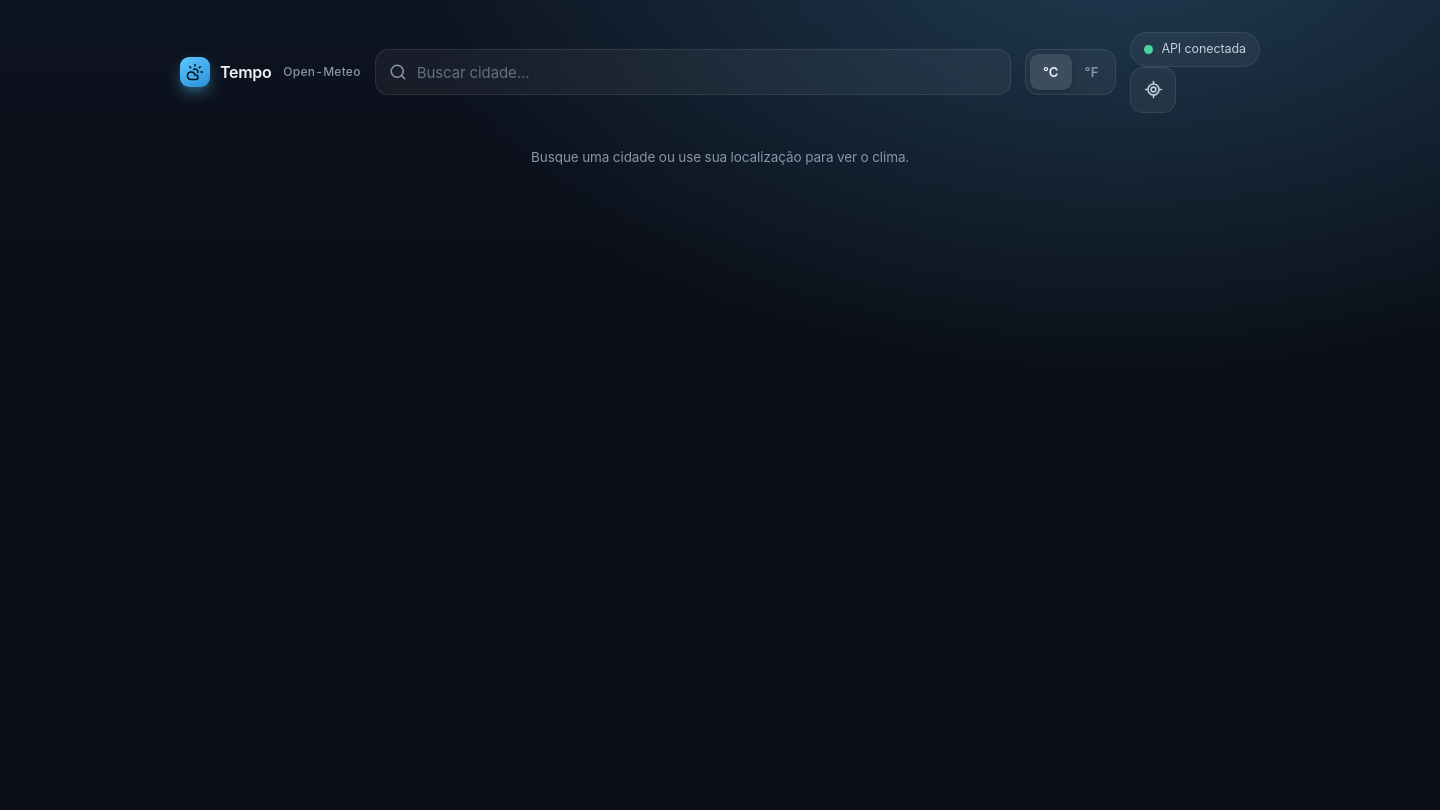
WeatherDashboardPage units toggle › keeps the active imperial unit when searching a new city
Type "London" into the dropdown.
click(707, 72); type("London")  # box left=417, top=50, right=997, bottom=94
Wait 240 ms
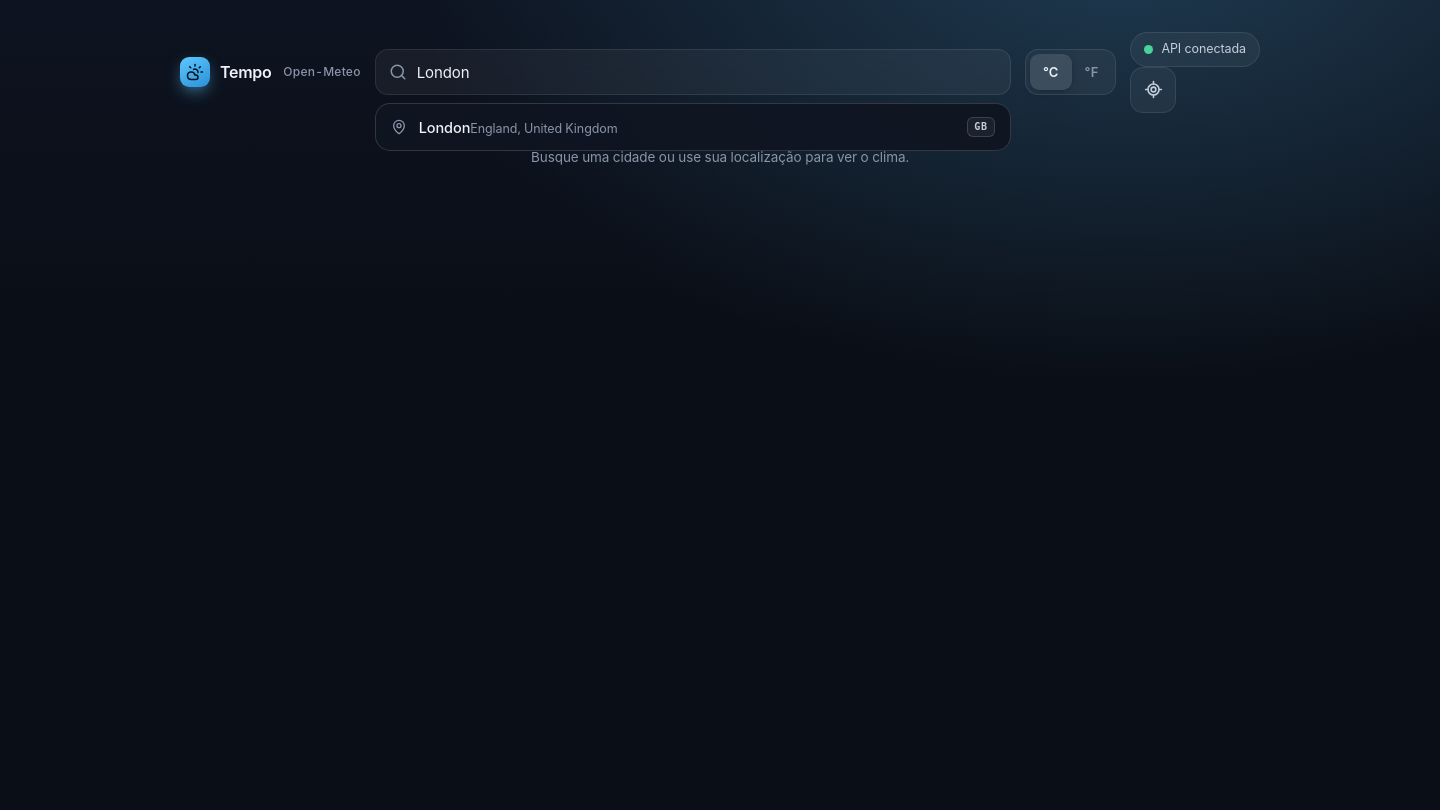
Press the mouse on the option at coordinates (444, 128), box left=376, top=104, right=1010, bottom=150
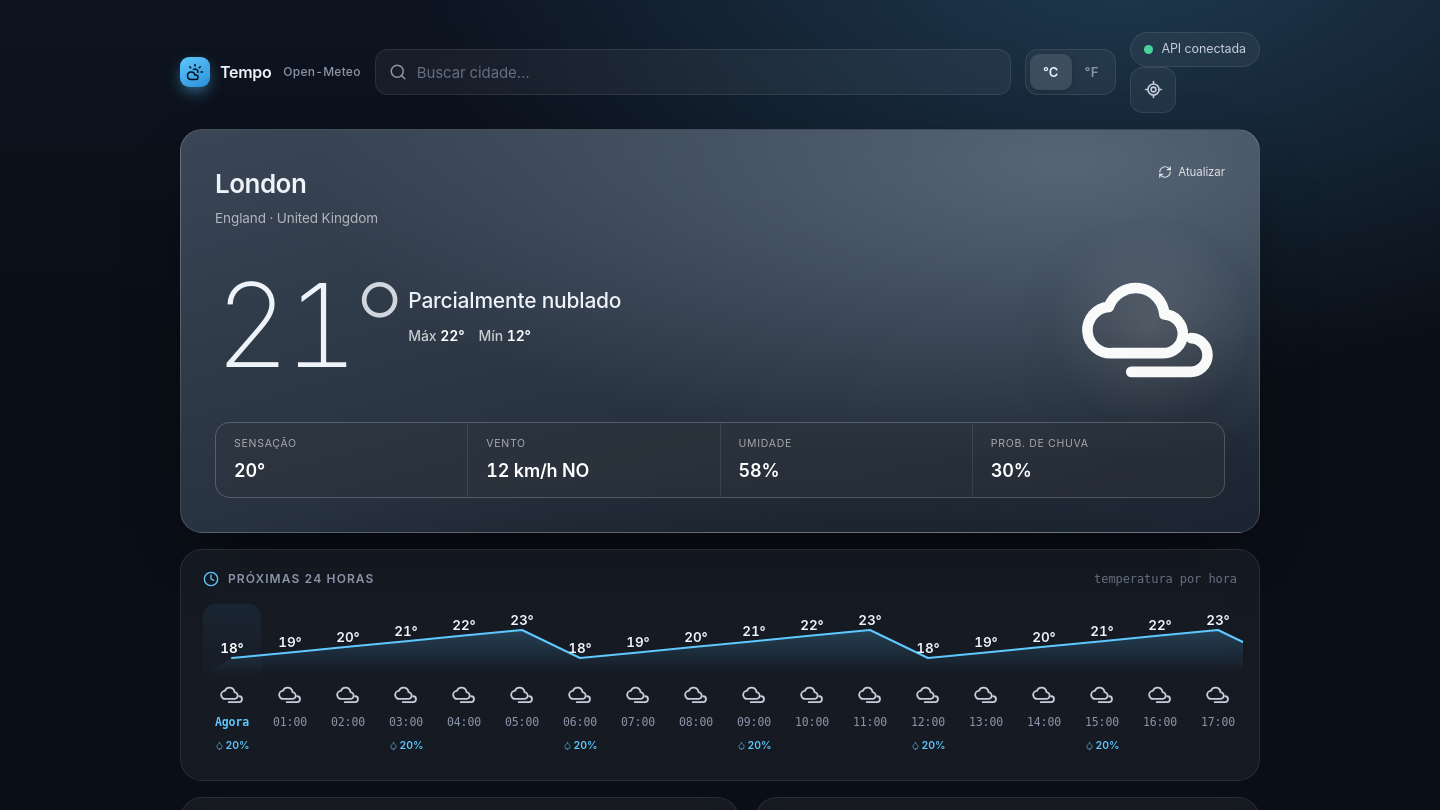
Click the button "°F".
click(1092, 72)  # box left=1072, top=54, right=1112, bottom=90
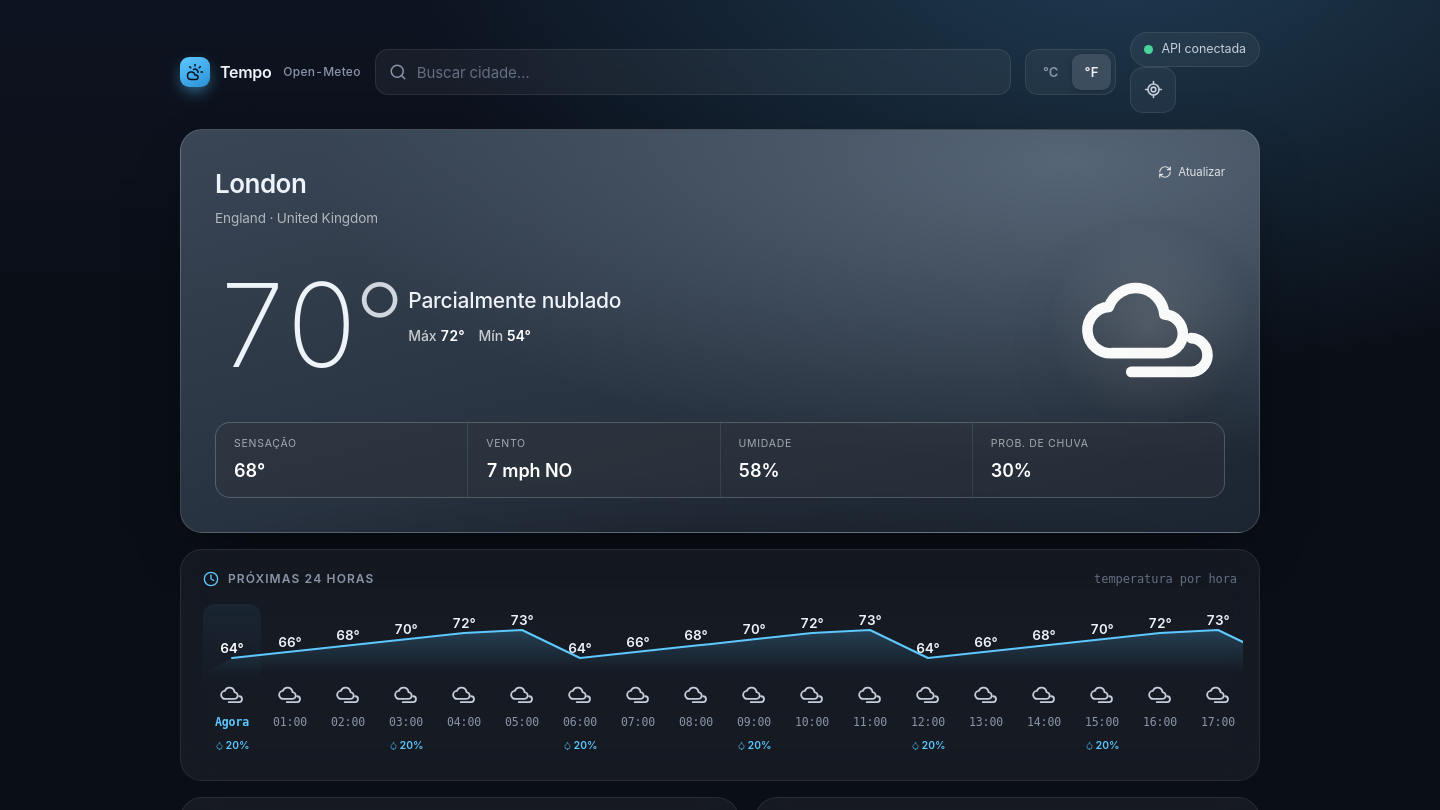
Type "Paris" into the dropdown.
click(707, 72); type("Paris")  # box left=417, top=50, right=997, bottom=94
Wait 240 ms
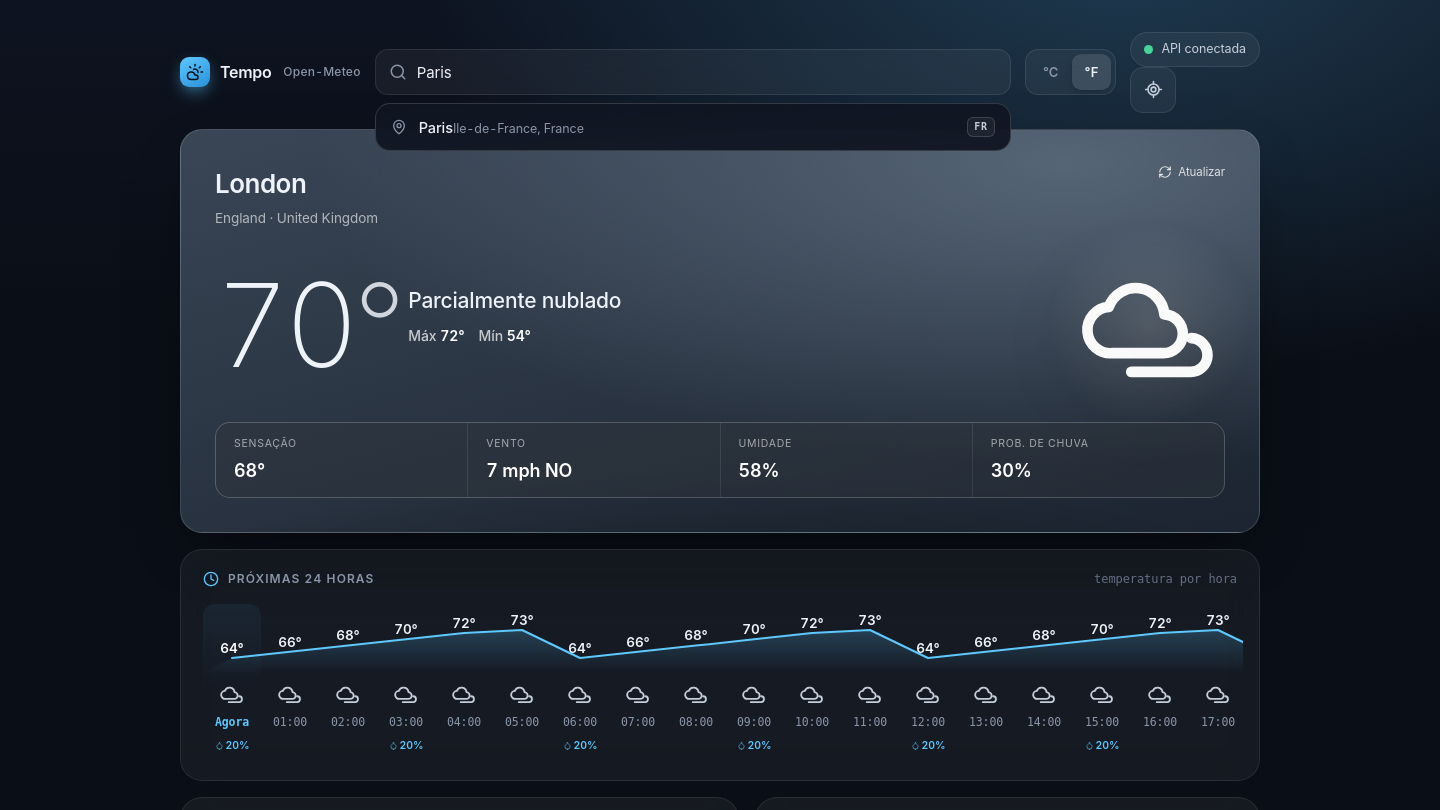
Press the mouse on the option at coordinates (436, 128), box left=376, top=104, right=1010, bottom=150
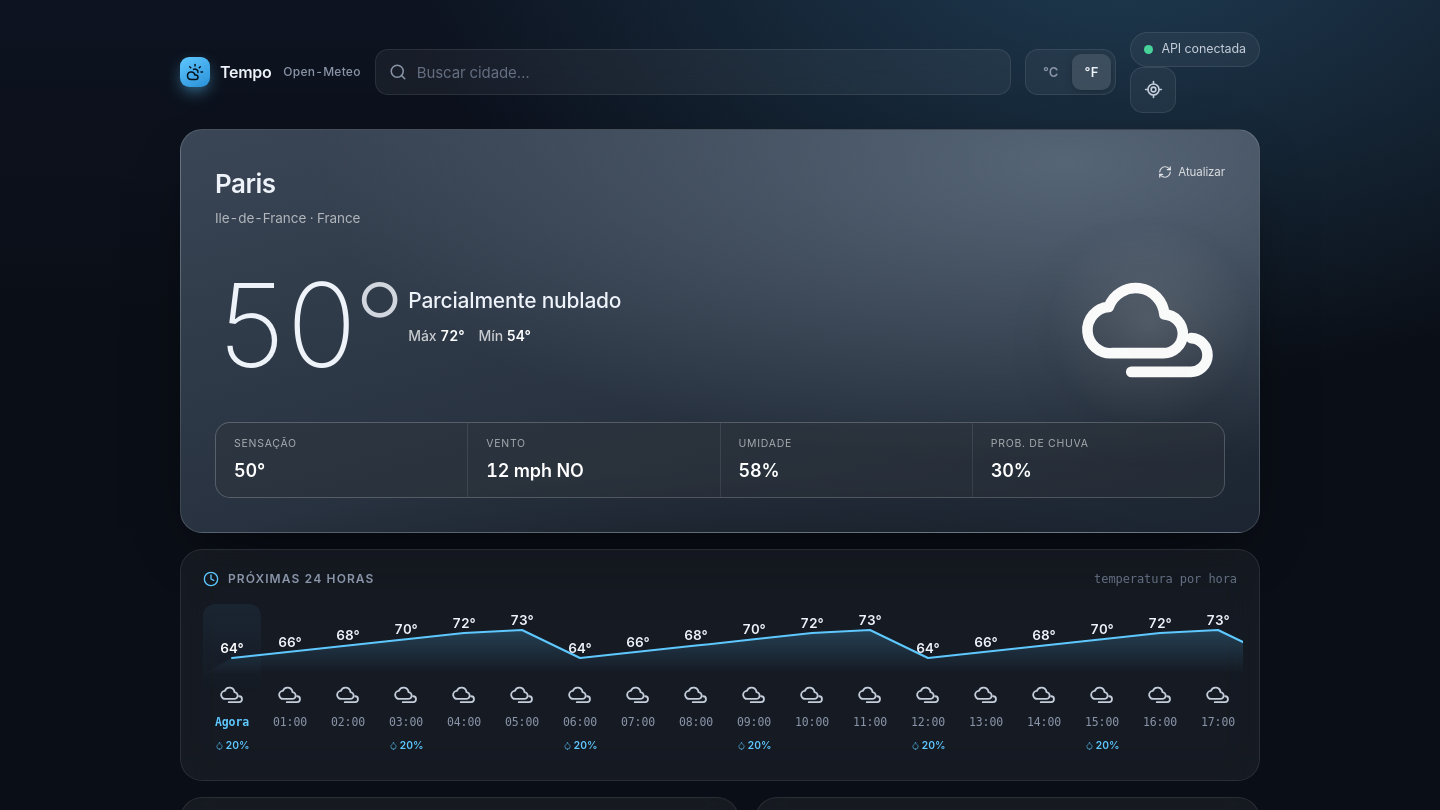
Now the text "Paris" is shown, box left=215, top=168, right=276, bottom=199
Now the element with class "wx-temp" reads "50°", box left=215, top=273, right=400, bottom=377
Now the text "12 mph NO" is shown, box left=486, top=460, right=584, bottom=481
